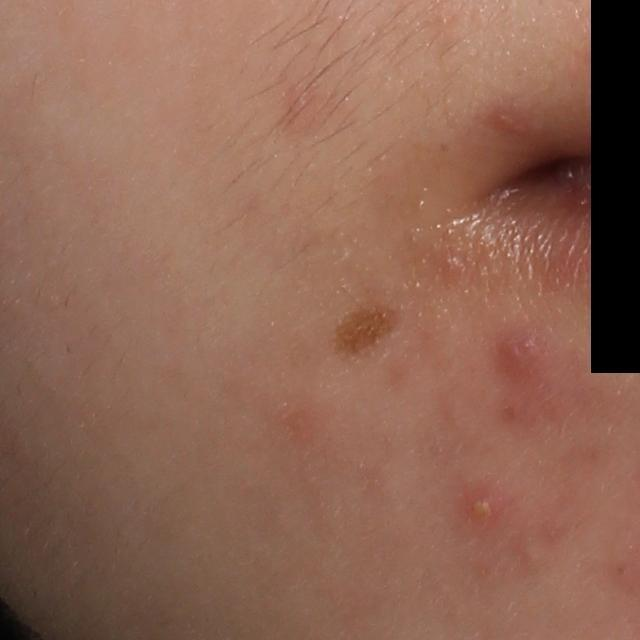nevus: (339, 303, 397, 351)
papule: (494, 324, 555, 386), (491, 105, 524, 137)
pustule: (460, 485, 508, 536)
